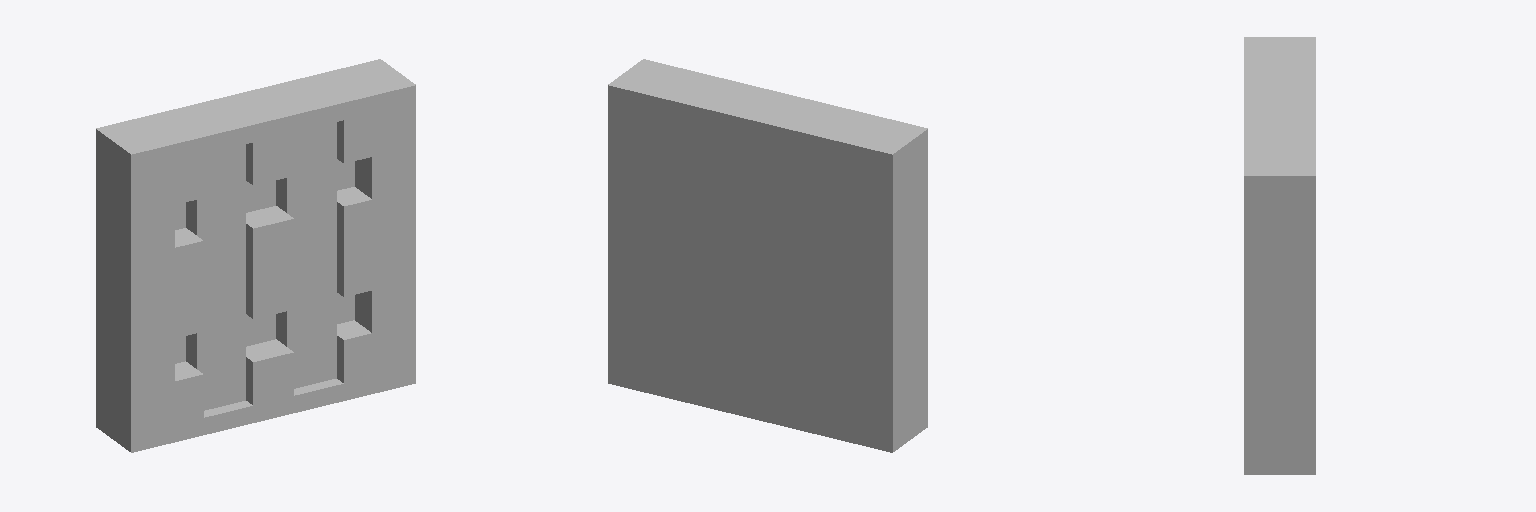
3 renders of one model, left to right at view 1: azimuth 30°, elevation 25°; view 2: azimuth 150°, elevation 25°; view 3: azimuth 270°, elevation 25°, orthographic.
Parts seen in each view (by area): view 1: Body1; view 2: Body1; view 3: Body1.
Part boxes in pixels (x1,y1,x2,y2): Body1: (96, 59, 415, 452); Body1: (608, 59, 927, 452); Body1: (1244, 37, 1315, 474).
Size of the model in its own units: 16.1 by 16.1 by 3.5.